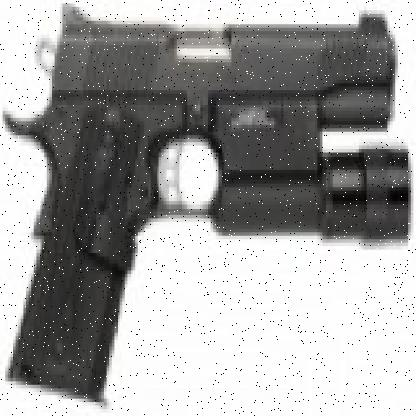pistol: (13, 3, 390, 402)
